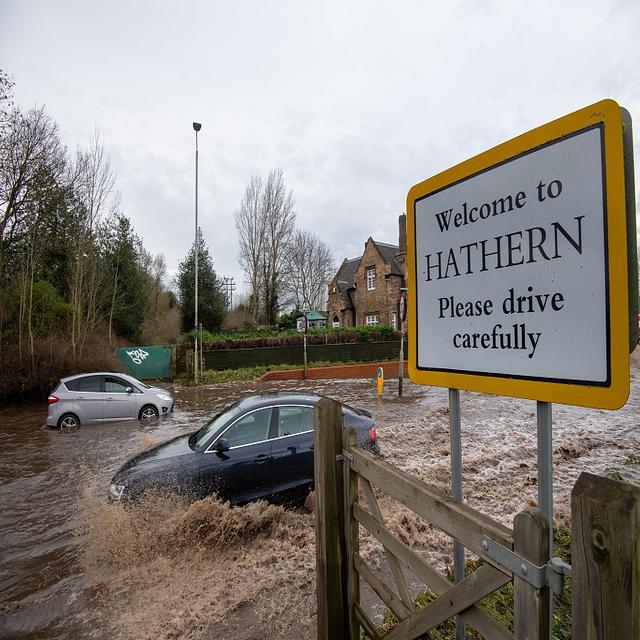Car-RiskLevel2: (109, 388, 387, 533), (38, 360, 189, 429)
